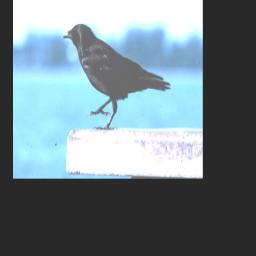Crow: (62, 20, 172, 132)
